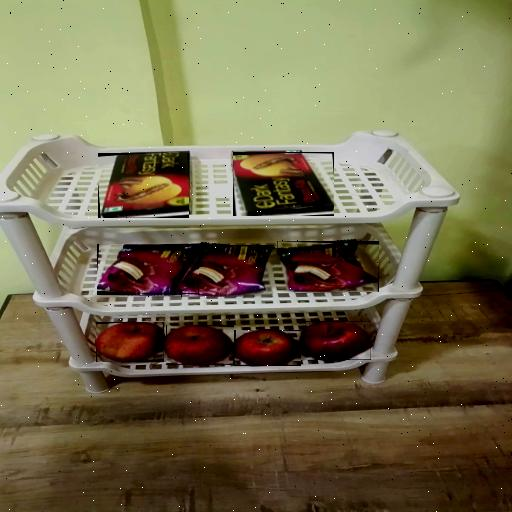Apple: (299, 321, 371, 360), (166, 325, 234, 365), (96, 322, 164, 362), (234, 330, 301, 366)
Choco Fills: (233, 152, 334, 216), (98, 153, 189, 218)
Choco Pie: (277, 241, 379, 292), (97, 244, 199, 294), (181, 245, 274, 297)
